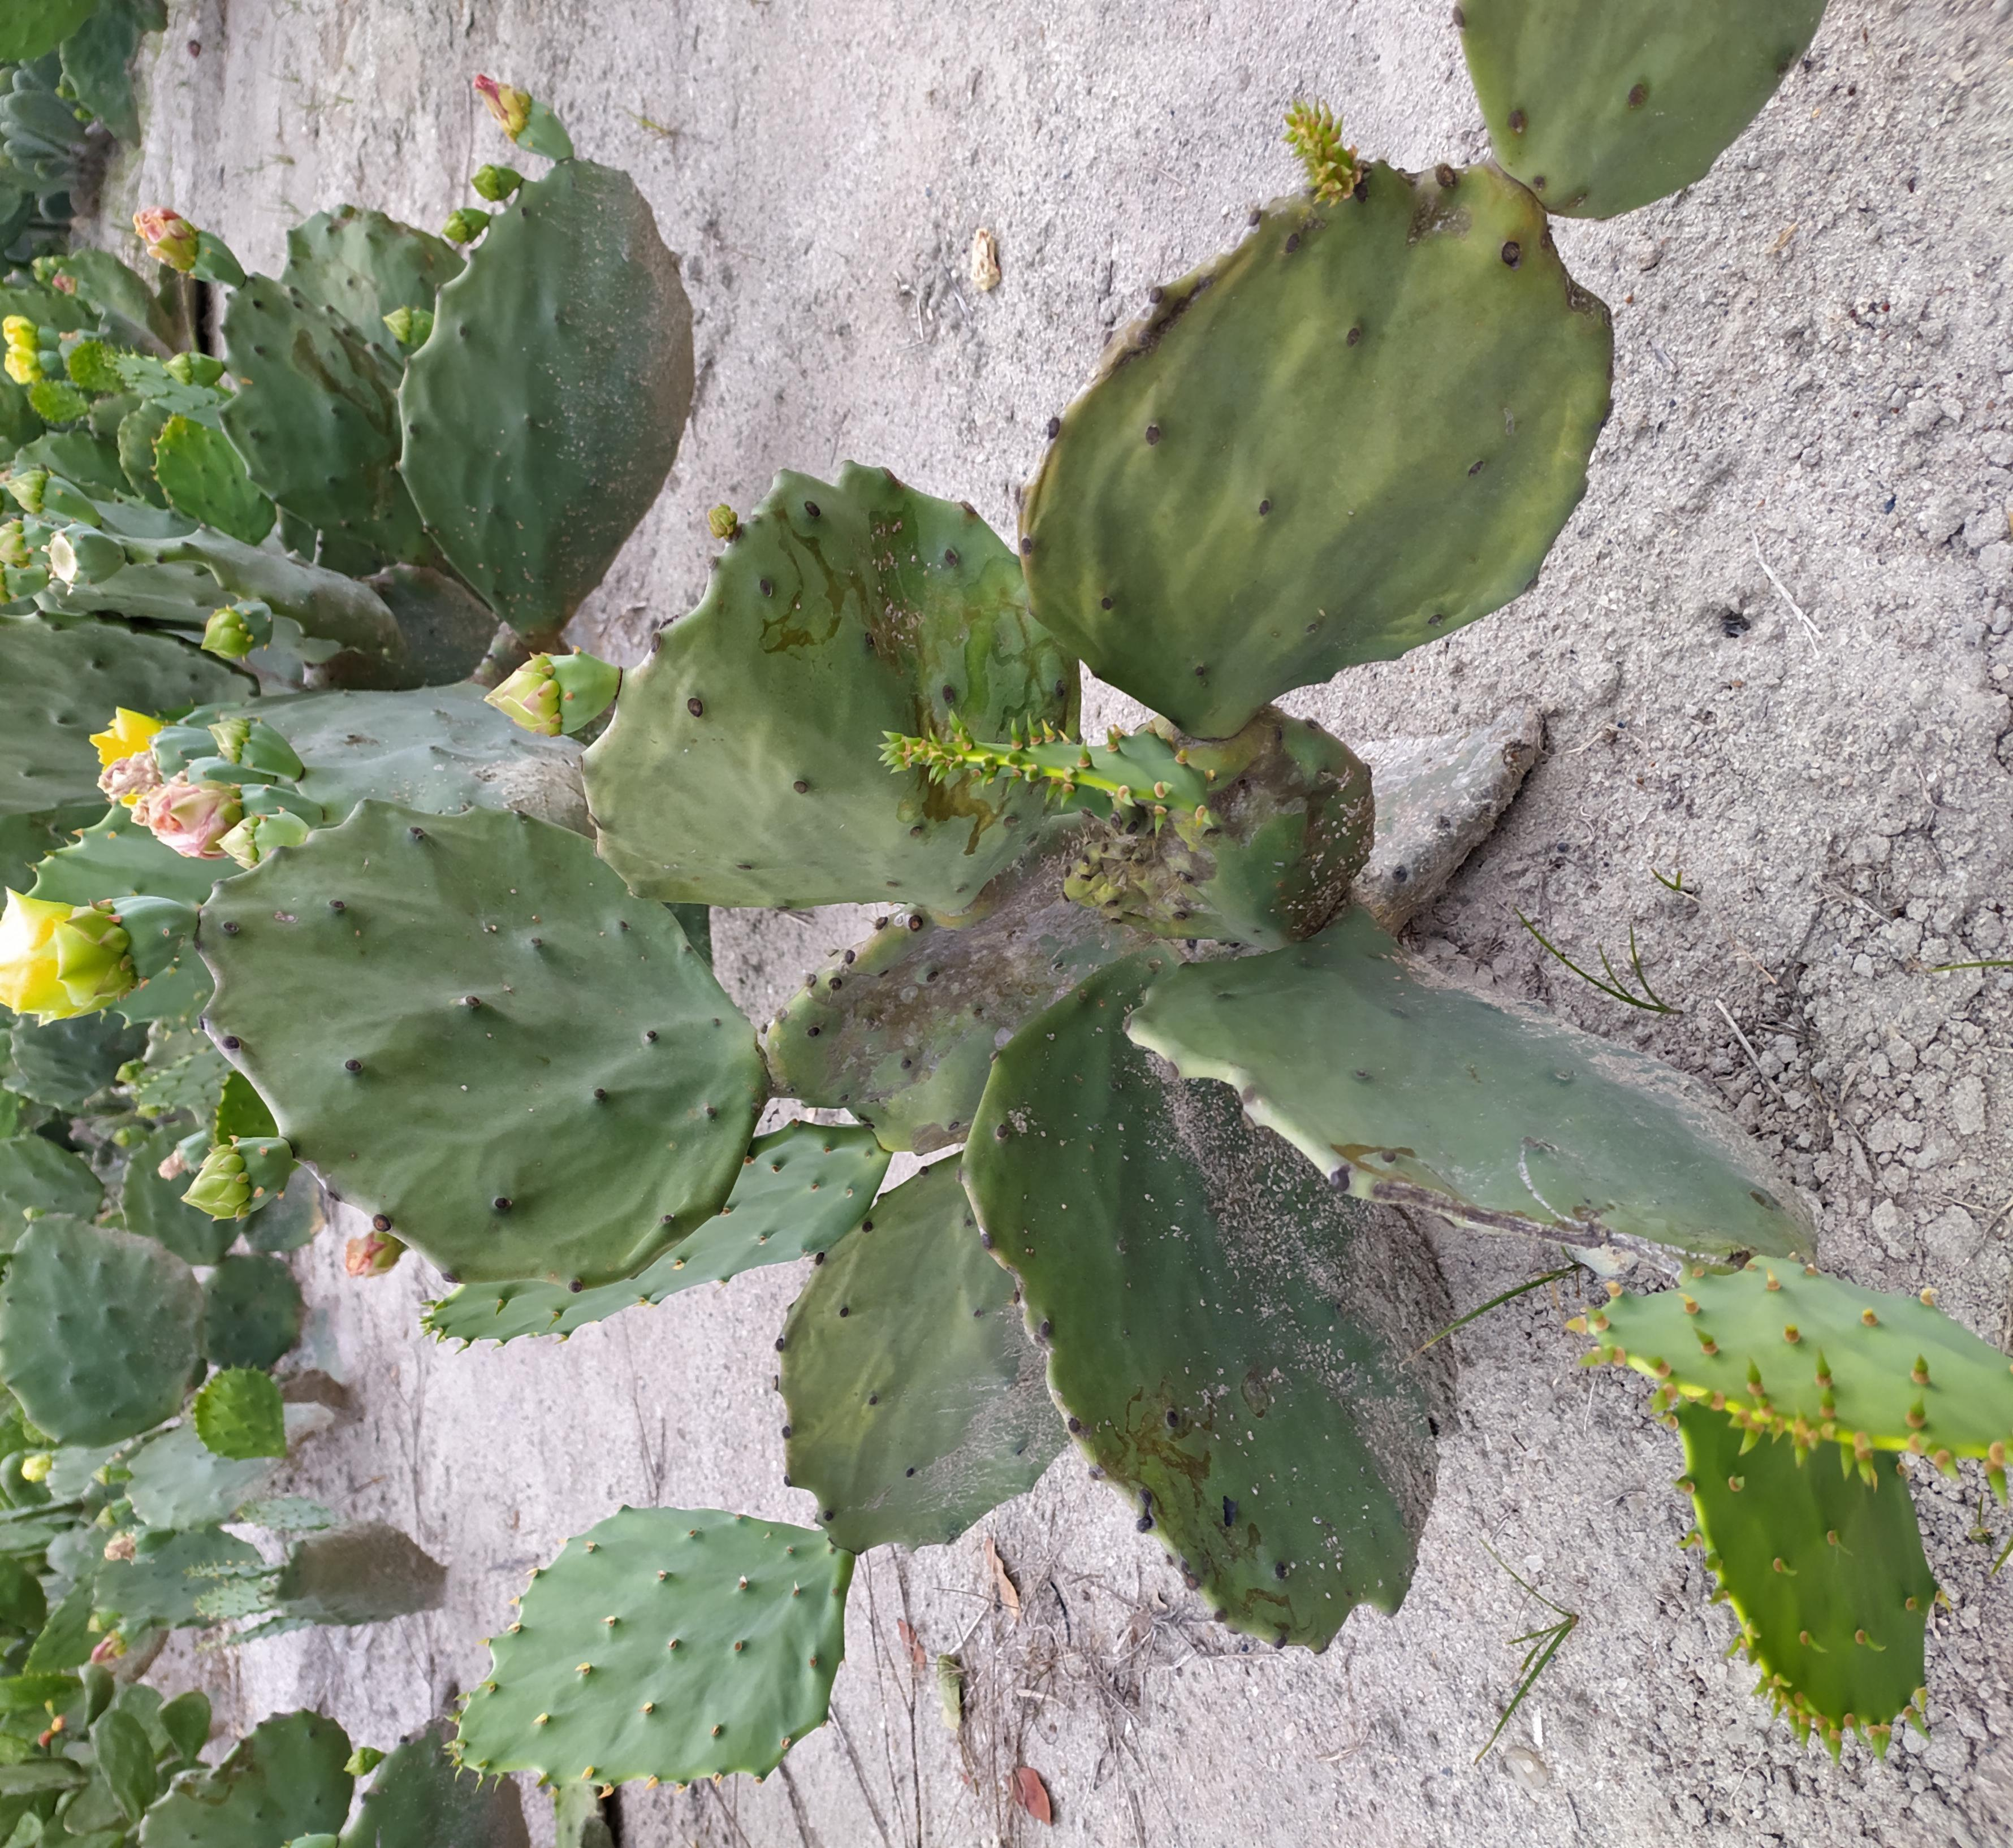impropria: (957, 960, 1478, 1656), (1050, 157, 1623, 756), (587, 464, 1084, 916), (1, 1208, 197, 1431), (215, 274, 397, 512)
propria: (193, 774, 758, 1267), (403, 143, 686, 664), (775, 1159, 1080, 1564), (466, 1505, 859, 1788), (1, 609, 266, 794)
